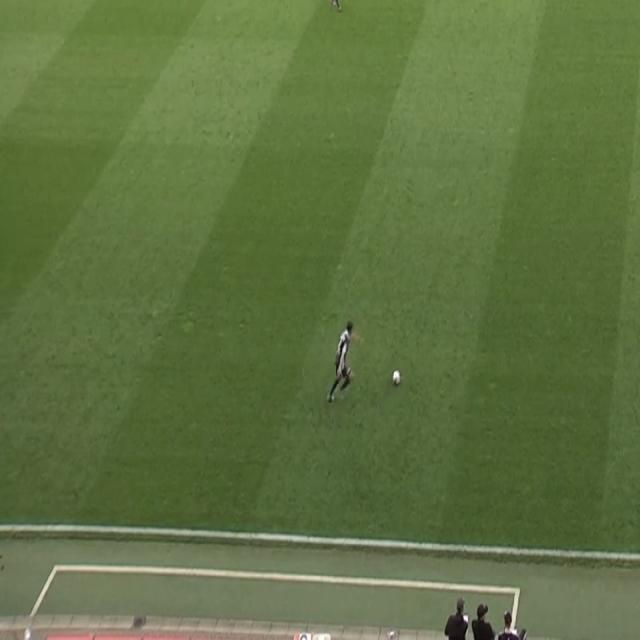ball: (392, 368, 402, 387)
